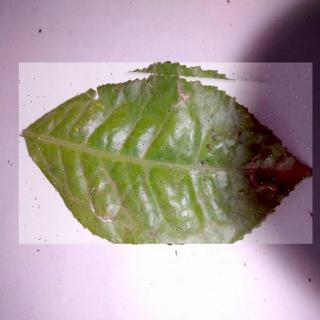Bird Eye Spot: (20, 64, 314, 245)
